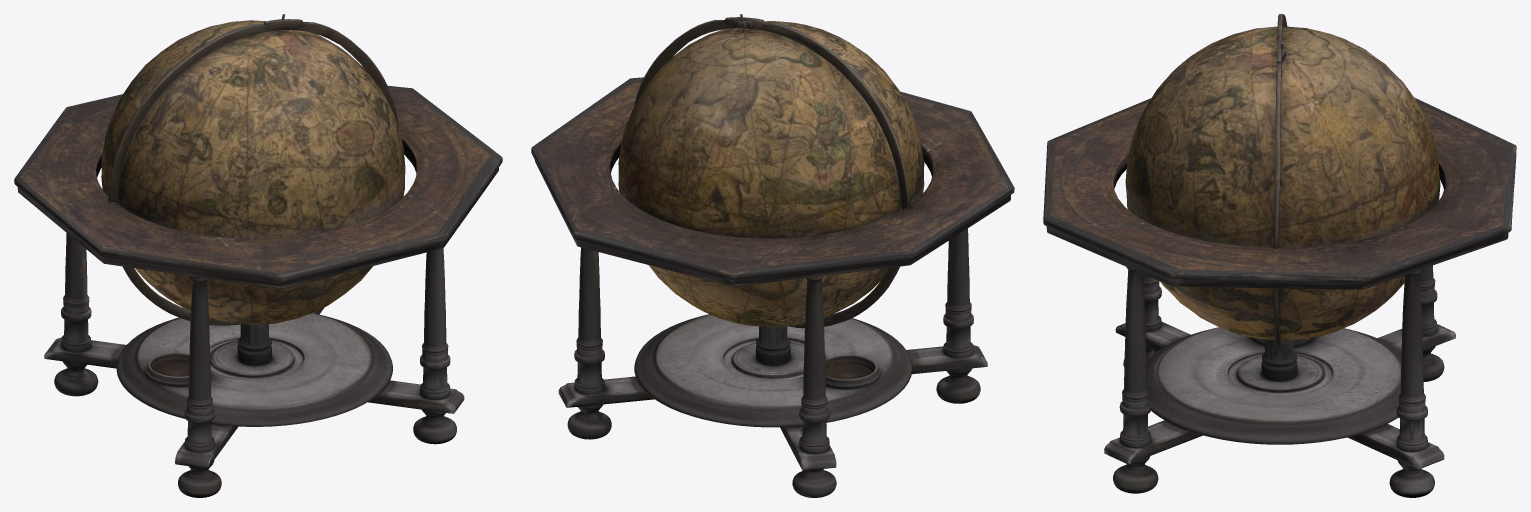
The model's file is celestial.glb.
3 views of the same model, side by side, from view 1: azimuth 30°, elevation 25°; view 2: azimuth 150°, elevation 25°; view 3: azimuth 270°, elevation 25° (orthographic). The views are drawn at different scales.
Parts seen in each view (by area): view 1: Object_2, Object_3, Object_4, Object_10, Object_6, Object_5, Object_11, Object_7, Object_9; view 2: Object_2, Object_3, Object_4, Object_10, Object_7, Object_8, Object_11, Object_6, Object_9; view 3: Object_2, Object_3, Object_4, Object_8, Object_5, Object_11, Object_10, Object_7, Object_9, Object_6.
Part boxes in pixels (x1,y1,x2,y2): Object_2: (101,20,405,324); Object_3: (14,86,502,288); Object_4: (116,313,392,426); Object_10: (109,19,398,325); Object_6: (178,276,221,497); Object_5: (413,248,456,444); Object_11: (44,307,464,468); Object_7: (54,233,98,396); Object_9: (145,14,284,386); Object_2: (618,21,924,327); Object_3: (531,77,1014,286); Object_4: (634,314,912,427); Object_10: (634,17,910,328); Object_7: (792,276,836,497); Object_8: (567,247,611,439); Object_11: (558,345,987,470); Object_6: (936,228,980,403); Object_9: (740,14,880,389); Object_2: (1125,26,1440,340); Object_3: (1043,97,1516,289); Object_4: (1146,327,1401,444); Object_8: (1389,269,1434,497); Object_5: (1113,267,1158,493); Object_11: (1104,322,1455,469); Object_10: (1273,14,1287,350); Object_7: (1419,265,1444,381); Object_9: (1251,42,1313,381); Object_6: (1123,274,1161,366).
Bounding box in the file's own units: 0.7267 × 0.6886 × 0.727.
Materials: 6 (6 with a texture image).
